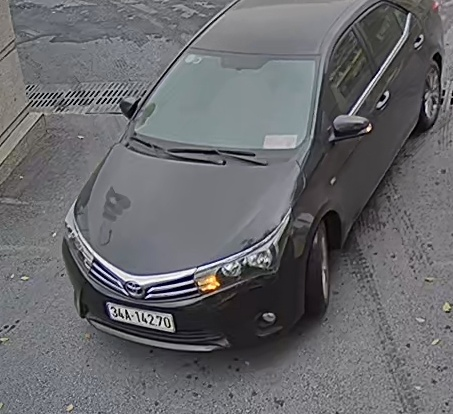vehicle plate: (104, 296, 177, 337)
